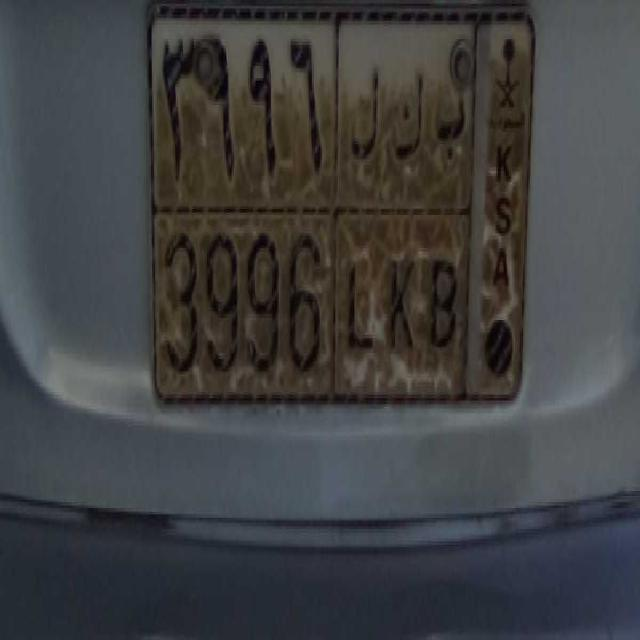license_plate: (159, 204, 461, 428)
